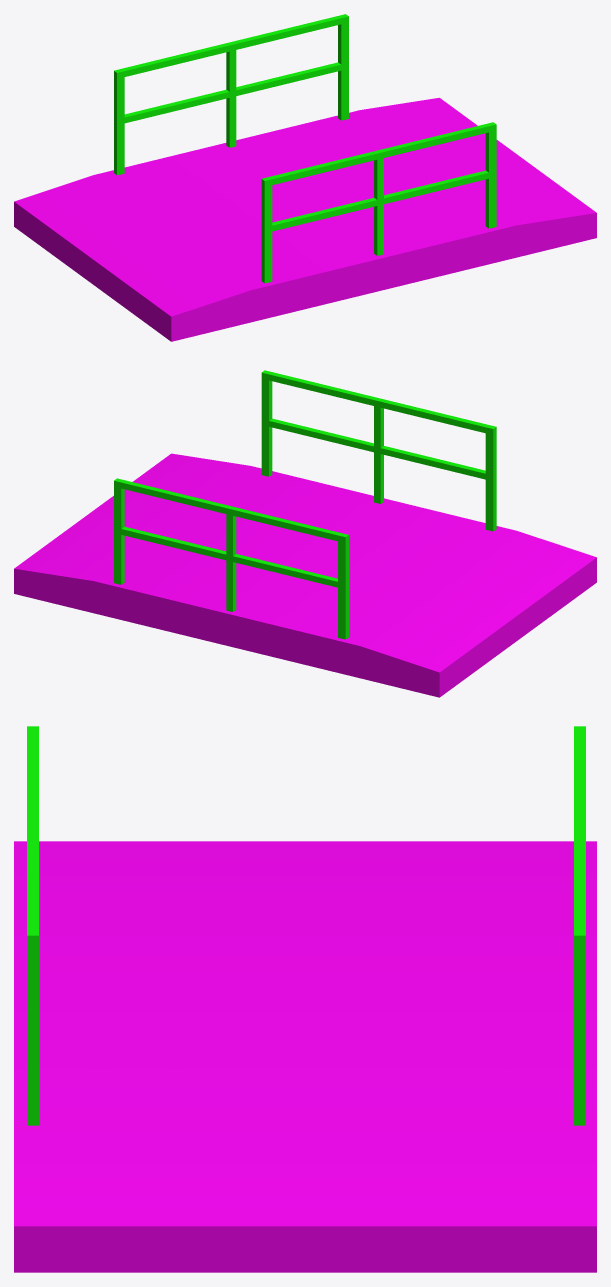
Rendered from SM_ENV_ELEVATOR_RAIL_01.FBX.
3 views of the same model, one above another, from view 1: azimuth 30°, elevation 25°; view 2: azimuth 150°, elevation 25°; view 3: azimuth 270°, elevation 25° (orthographic). The views are drawn at different scales.
Parts seen in each view (by area): view 1: elevator_plattform_01; view 2: elevator_plattform_01; view 3: elevator_plattform_01.
Part boxes in pixels (x1,y1,x2,y2): elevator_plattform_01: [14, 14, 596, 341]; elevator_plattform_01: [14, 370, 596, 697]; elevator_plattform_01: [14, 726, 596, 1272].
Size of the model in its own units: 305 by 92.25 by 195.
